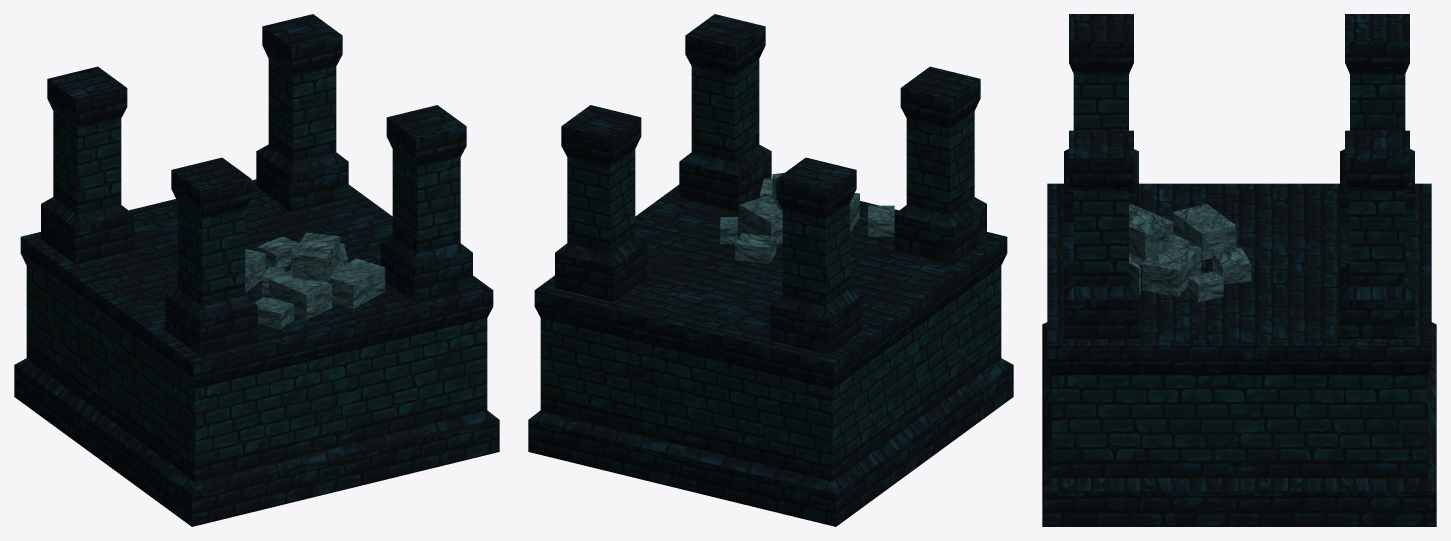
File: dungeon-tile-rubble.glb
3 views of the same model, side by side, from view 1: azimuth 30°, elevation 25°; view 2: azimuth 150°, elevation 25°; view 3: azimuth 270°, elevation 25° (orthographic). The views are drawn at different scales.
Visible parts, largest first — view 1: mergedBlocks(Clone); view 2: mergedBlocks(Clone); view 3: mergedBlocks(Clone).
Part boxes in pixels (left/top/right/bottom): mergedBlocks(Clone): left=14, top=14, right=499, bottom=526; mergedBlocks(Clone): left=528, top=14, right=1013, bottom=526; mergedBlocks(Clone): left=1042, top=14, right=1436, bottom=526.
Size of the model in its own units: 2 by 2 by 2.
3 materials, 3 textured.
